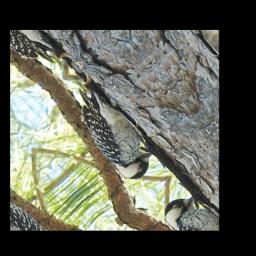Woodpecker: (56, 77, 166, 187)
